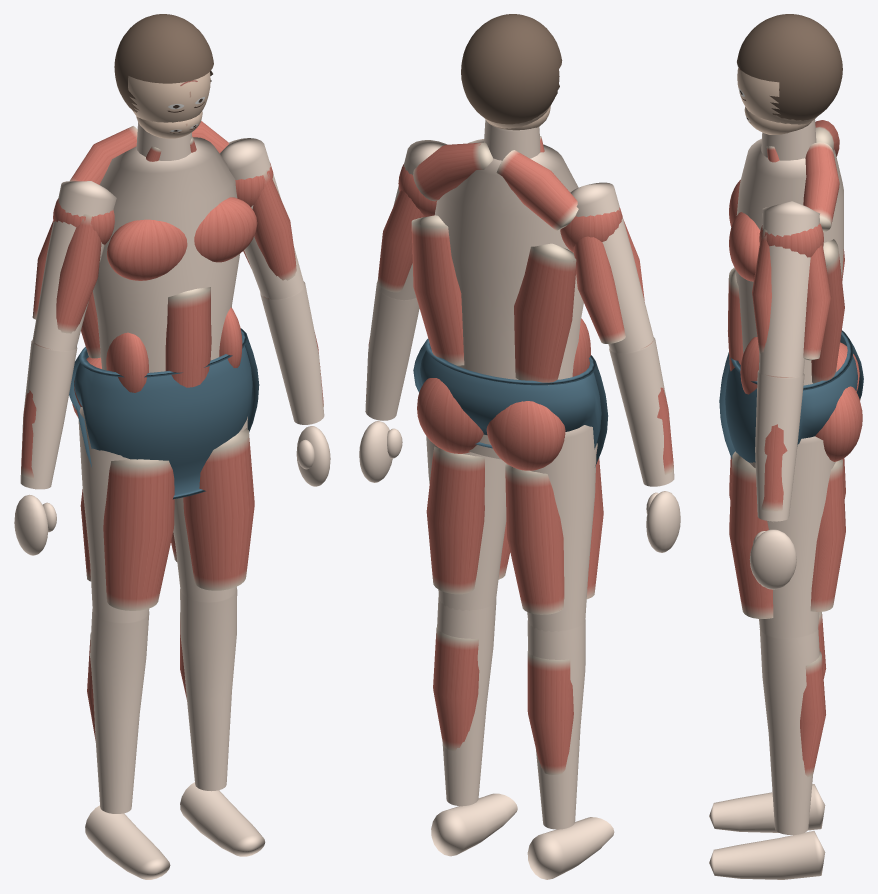
Rendered from muscular-explorer.glb.
3 renders of one model, left to right at view 1: azimuth 30°, elevation 25°; view 2: azimuth 150°, elevation 25°; view 3: azimuth 270°, elevation 25°, orthographic.
Visible parts, largest first — view 1: Body_torso, Sports_shorts, Quadriceps_right, Calf_right, Calf_left, Quadriceps_left, Hair, Forearm_left, Forearm_right, Upper_arm_right, Thigh_right, Rectus_abdominis (+20 smaller); view 2: Body_torso, Hair, Sports_shorts, Hamstring_group_left, Hamstring_group_right, Thigh_right, Latissimus_dorsi_right, Latissimus_dorsi_left, Calf_left, Calf_right, Forearm_right, Forearm_left (+21 smaller); view 3: Calf_left, Hair, Thigh_left, Upper_arm_left, Body_torso, Sports_shorts, Forearm_left, Foot_left, Quadriceps_left, Hamstring_group_left, Foot_right, Latissimus_dorsi_left (+15 smaller).
Boxes of the visible parts, x1=… form: Body_torso: x1=92, y1=137, x2=240, y2=372; Sports_shorts: x1=69, y1=328, x2=259, y2=499; Quadriceps_right: x1=103, y1=459, x2=174, y2=610; Calf_right: x1=90, y1=609, x2=149, y2=813; Calf_left: x1=180, y1=588, x2=237, y2=791; Quadriceps_left: x1=183, y1=428, x2=254, y2=590; Hair: x1=114, y1=14, x2=213, y2=112; Forearm_left: x1=260, y1=281, x2=324, y2=424; Forearm_right: x1=20, y1=340, x2=77, y2=489; Upper_arm_right: x1=32, y1=181, x2=116, y2=351; Thigh_right: x1=78, y1=407, x2=149, y2=622; Rectus_abdominis: x1=165, y1=287, x2=211, y2=387; Body_torso: x1=435, y1=139, x2=583, y2=459; Hair: x1=461, y1=14, x2=562, y2=124; Sports_shorts: x1=413, y1=338, x2=608, y2=466; Hamstring_group_left: x1=426, y1=446, x2=484, y2=594; Hamstring_group_right: x1=505, y1=463, x2=564, y2=614; Thigh_right: x1=527, y1=425, x2=596, y2=631; Latissimus_dorsi_right: x1=514, y1=243, x2=576, y2=385; Latissimus_dorsi_left: x1=411, y1=215, x2=464, y2=365; Calf_left: x1=437, y1=597, x2=496, y2=806; Calf_right: x1=527, y1=619, x2=585, y2=829; Forearm_right: x1=609, y1=337, x2=674, y2=486; Forearm_left: x1=365, y1=281, x2=419, y2=420; Calf_left: x1=759, y1=628, x2=819, y2=834; Hair: x1=737, y1=14, x2=842, y2=120; Thigh_left: x1=749, y1=436, x2=835, y2=638; Upper_arm_left: x1=759, y1=201, x2=819, y2=377; Body_torso: x1=735, y1=138, x2=843, y2=385; Sports_shorts: x1=719, y1=330, x2=863, y2=462; Forearm_left: x1=755, y1=370, x2=804, y2=521; Foot_left: x1=709, y1=831, x2=825, y2=879; Quadriceps_left: x1=729, y1=451, x2=773, y2=618; Hamstring_group_left: x1=810, y1=459, x2=845, y2=611; Foot_right: x1=709, y1=784, x2=825, y2=832; Latissimus_dorsi_left: x1=811, y1=239, x2=844, y2=383.
Size of the model in its own units: 1.33 by 3.42 by 0.5742.
5 materials, 2 textured.
